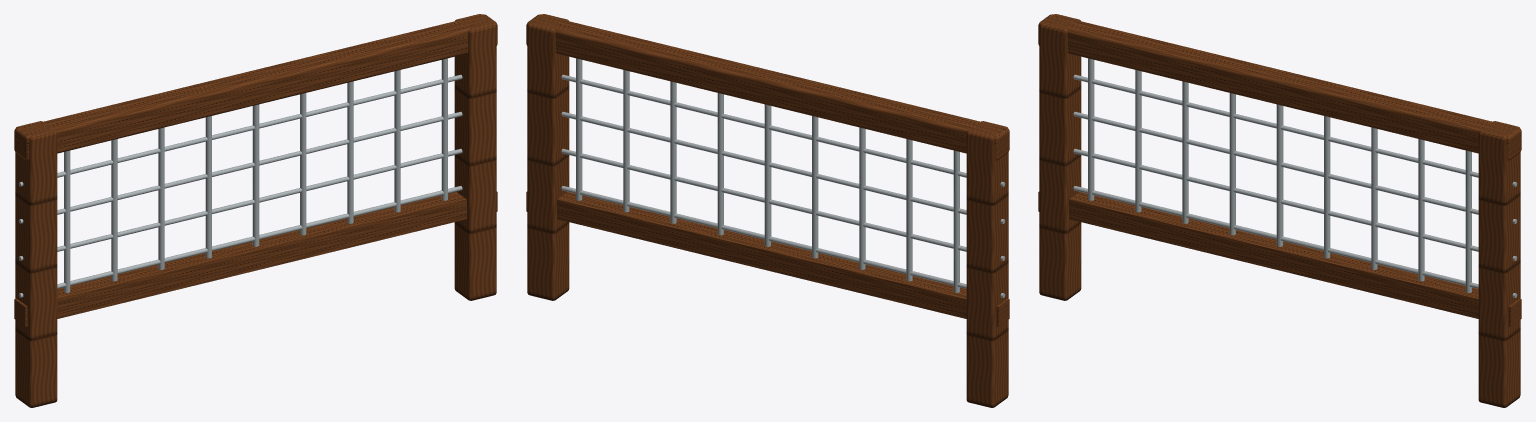
The model's file is suburban-outbreak-interiors-balcony-guardrail-8d47a148__20017.glb.
3 views of the same model, side by side, from view 1: azimuth 30°, elevation 25°; view 2: azimuth 150°, elevation 25°; view 3: azimuth 330°, elevation 25° (orthographic).
Parts seen in each view (by area): view 1: balcony-guardrail; view 2: balcony-guardrail; view 3: balcony-guardrail.
Part boxes in pixels (bbox=[...]): balcony-guardrail: bbox=[14, 14, 497, 407]; balcony-guardrail: bbox=[526, 14, 1009, 407]; balcony-guardrail: bbox=[1038, 14, 1521, 407].
Size of the model in its own units: 2 by 1.1 by 0.1199.
Materials: 2 (1 with a texture image).
